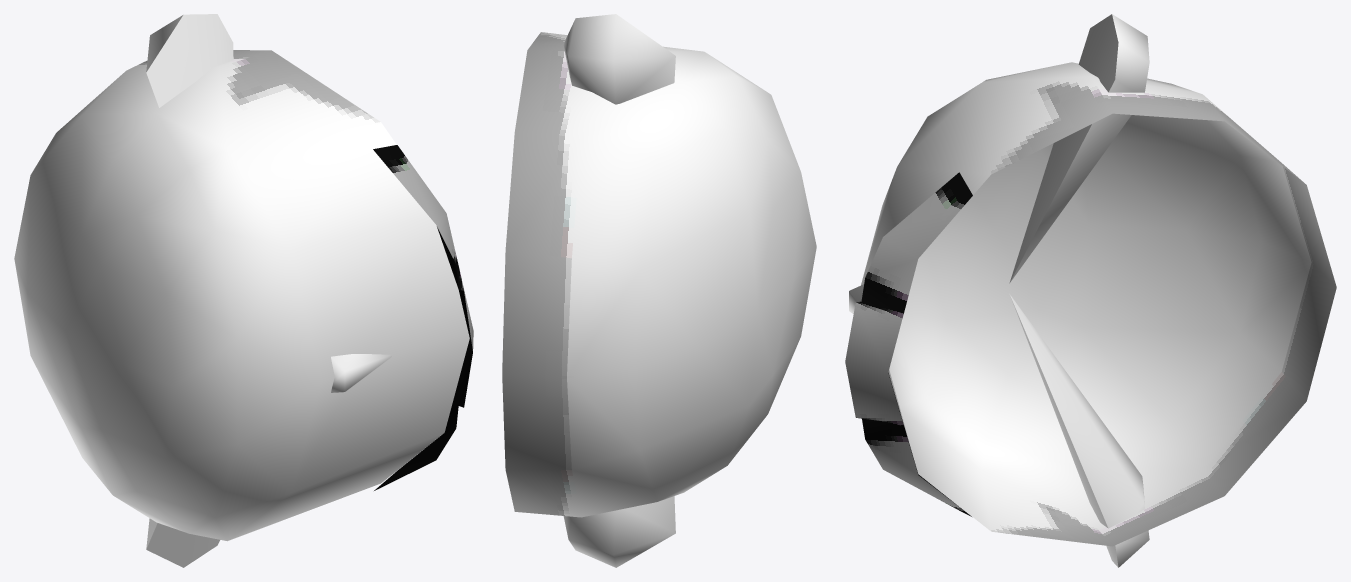
Rendered from girl04b.dae.
3 renders of one model, left to right at view 1: azimuth 30°, elevation 25°; view 2: azimuth 150°, elevation 25°; view 3: azimuth 270°, elevation 25°, orthographic.
Parts seen in each view (by area): view 1: girl04b; view 2: girl04b; view 3: girl04b.
Part boxes in pixels (left/top/right/bottom): girl04b: left=14, top=14, right=473, bottom=567; girl04b: left=502, top=14, right=816, bottom=567; girl04b: left=845, top=14, right=1336, bottom=567.
Bounding box in the file's own units: 15.5 × 26.71 × 21.76.
3 materials, 1 textured.
